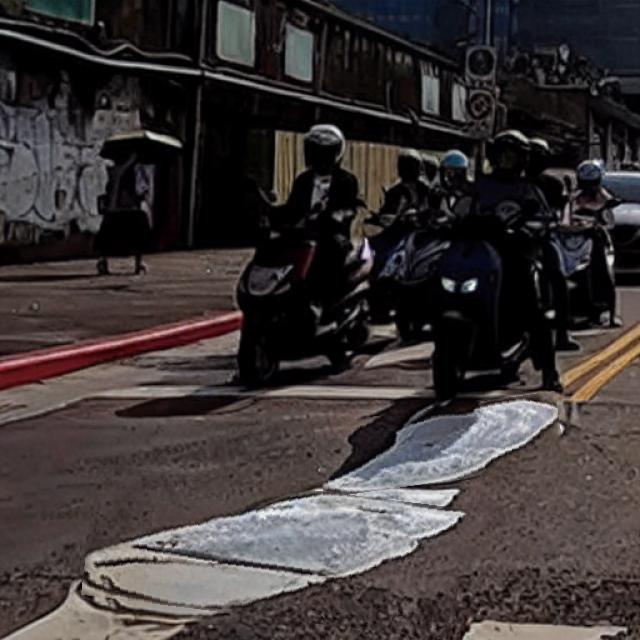puddle: (86, 476, 464, 630), (317, 401, 564, 491)
